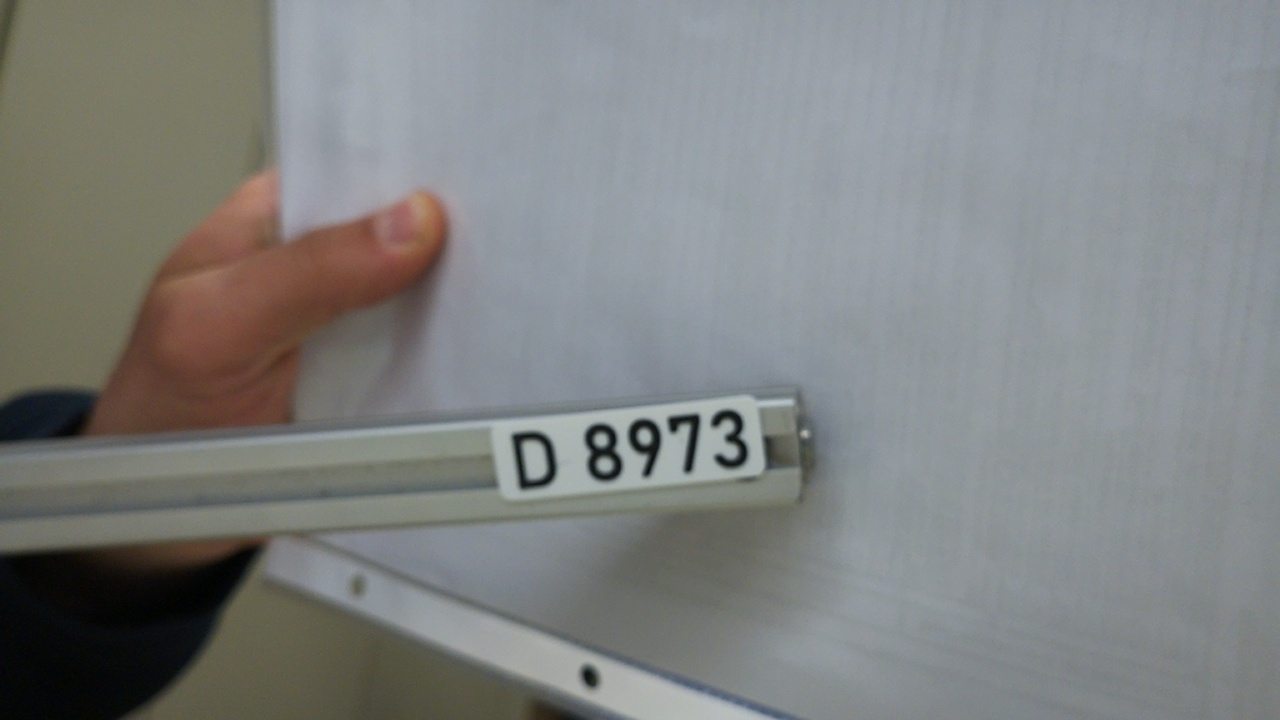license_plate: (486, 390, 770, 505)
